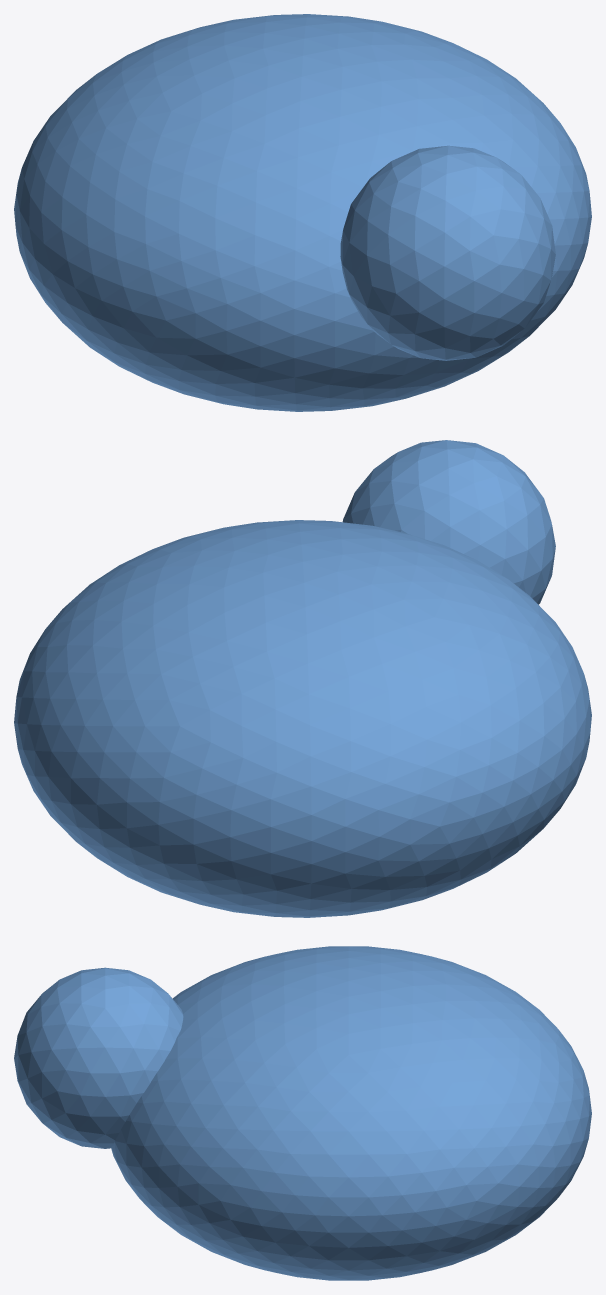
The model's file is creature_1.glb.
The picture shows the model from 3 angles, top to bottom: view 1: azimuth 30°, elevation 25°; view 2: azimuth 150°, elevation 25°; view 3: azimuth 270°, elevation 25°; orthographic projection. The views are drawn at different scales.
Visible parts, largest first — view 1: geometry_0; view 2: geometry_0; view 3: geometry_0.
Part boxes in pixels (x1,y1,x2,y2): geometry_0: (14,14,591,411); geometry_0: (14,440,591,917); geometry_0: (14,946,591,1280).
Size of the model in its own units: 2.4 by 1.47 by 2.85.
